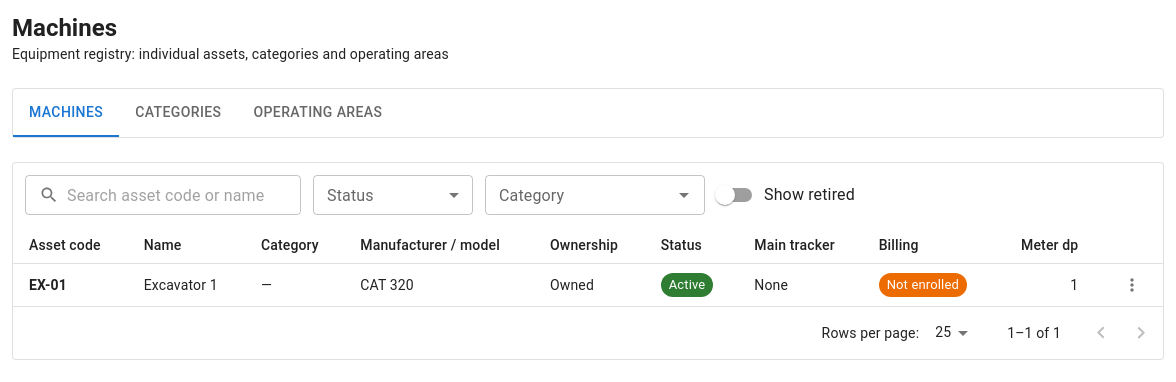
Test: permission-gated tenant registry actions › hides New machine and Enroll without write/enroll permissions
Expected: the text "EX-01" is shown, [29,277,67,293]
Click the button named "Actions for EX-01 · Excavator 1".
click(1132, 285)  # box [1117,270,1147,300]
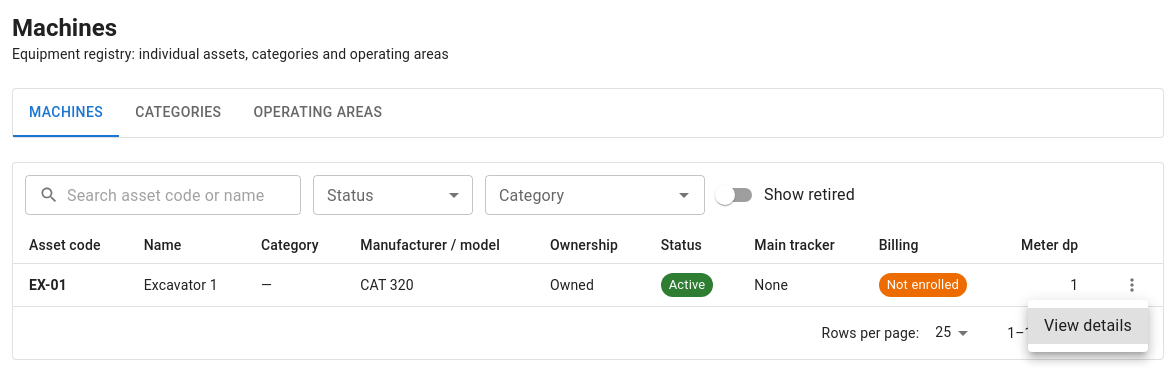
Expected: the menu item "View details" is shown, [1028,308,1148,344]
